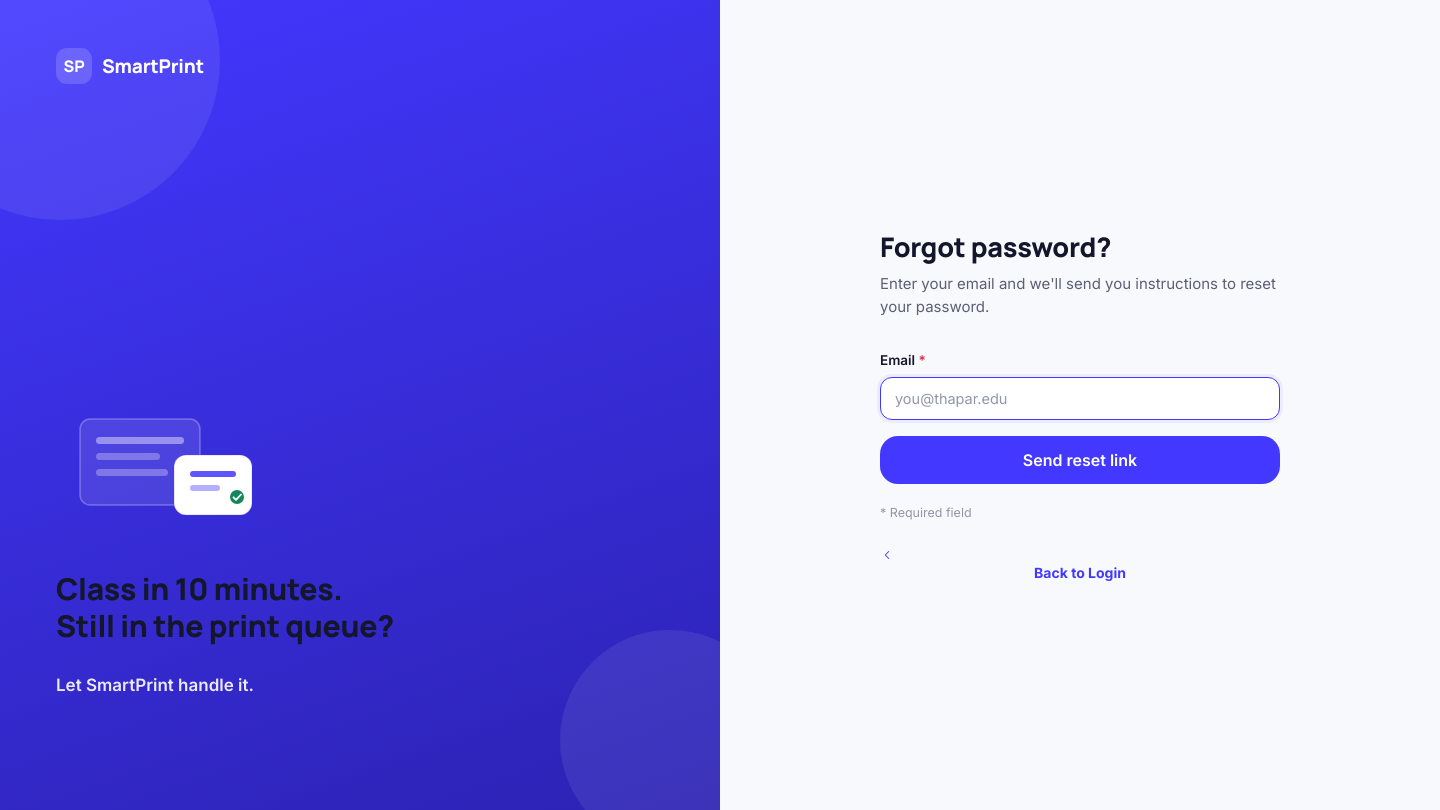
Test: ForgotPasswordPage › shows a network failure message
Type "student@thapar.edu" into the field labelled "Email *" at (1080, 398), box [880, 376, 1280, 420]
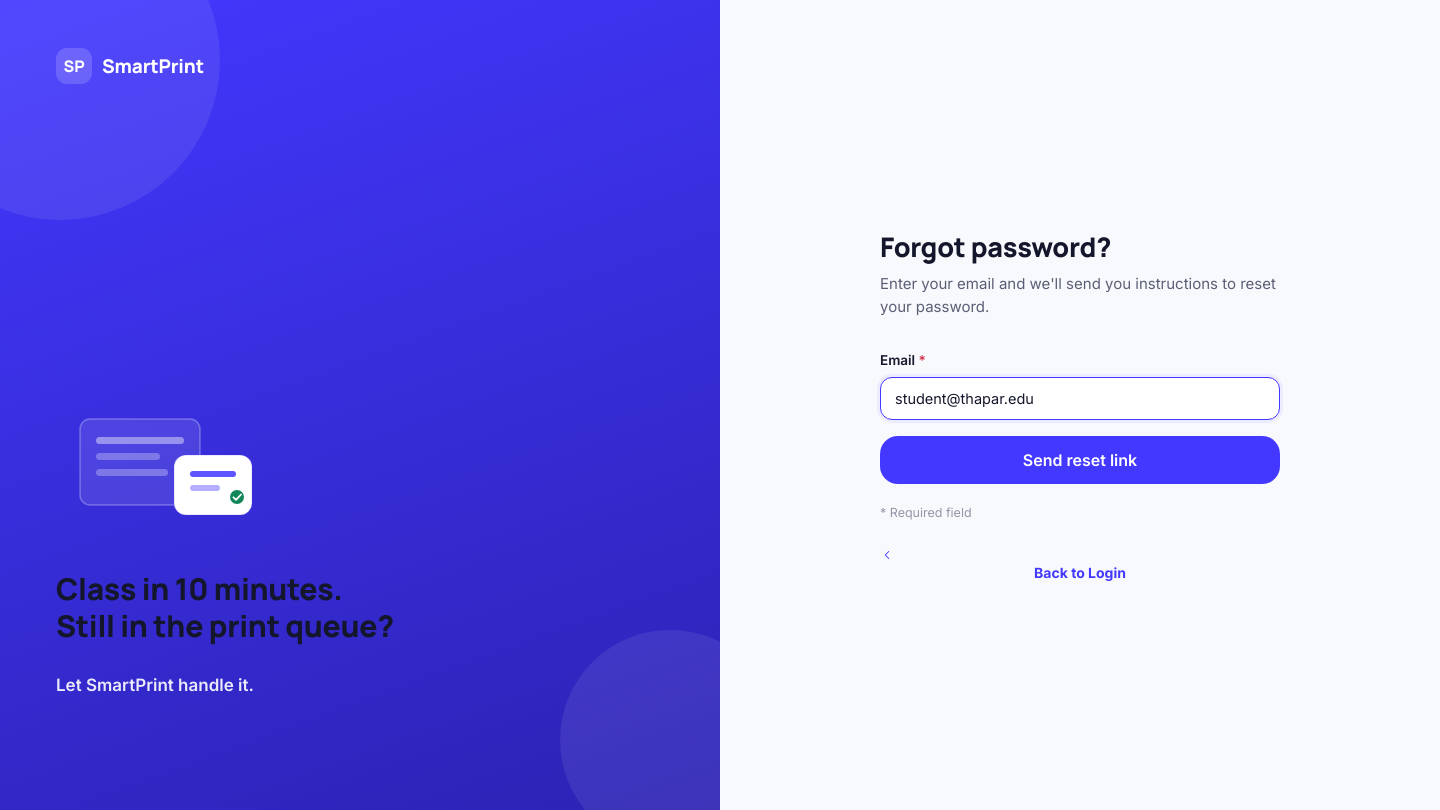
Click the button "Send reset link" at (1080, 460), box [880, 436, 1280, 484]
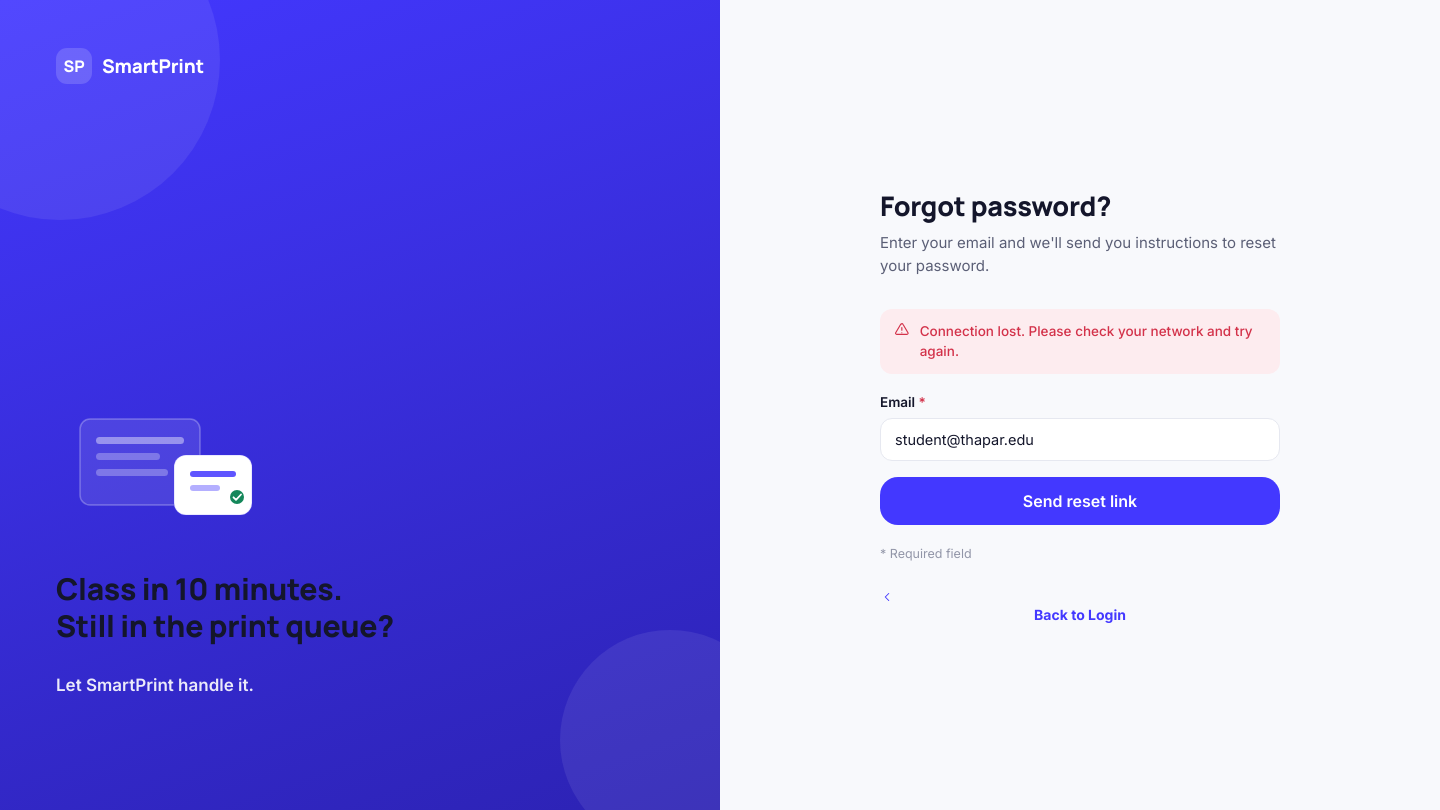
Expected: the message shows "Connection lost", [920, 323, 1253, 359]
